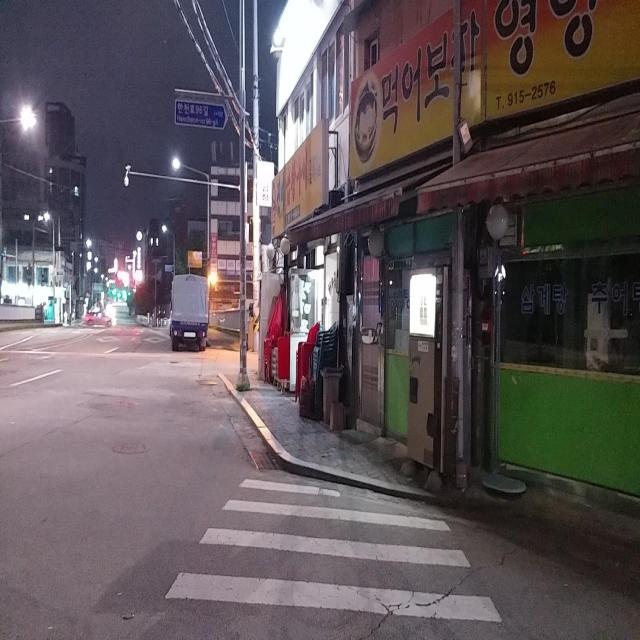횡단보도: (164, 474, 504, 624)
